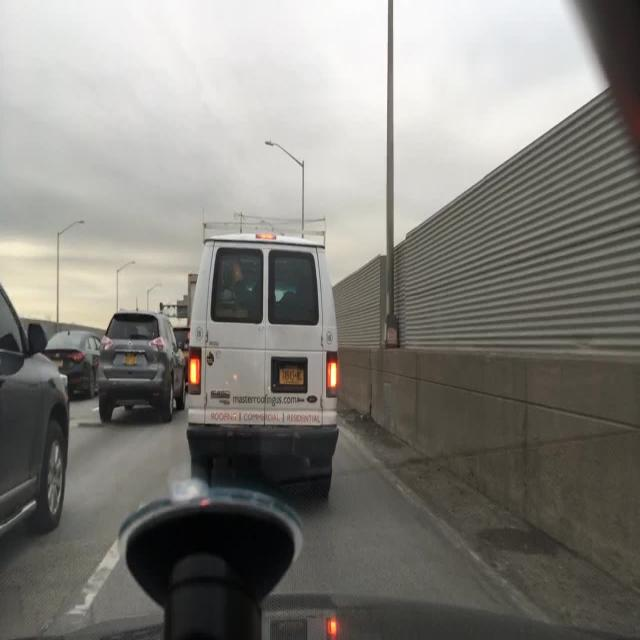car: (178, 207, 351, 509), (1, 238, 78, 568), (98, 308, 188, 421), (42, 330, 102, 400)
